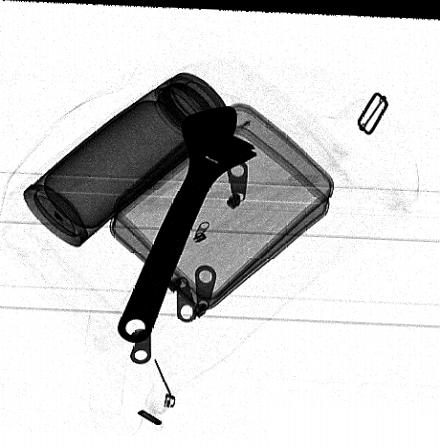Wrench: (116, 102, 259, 345)
